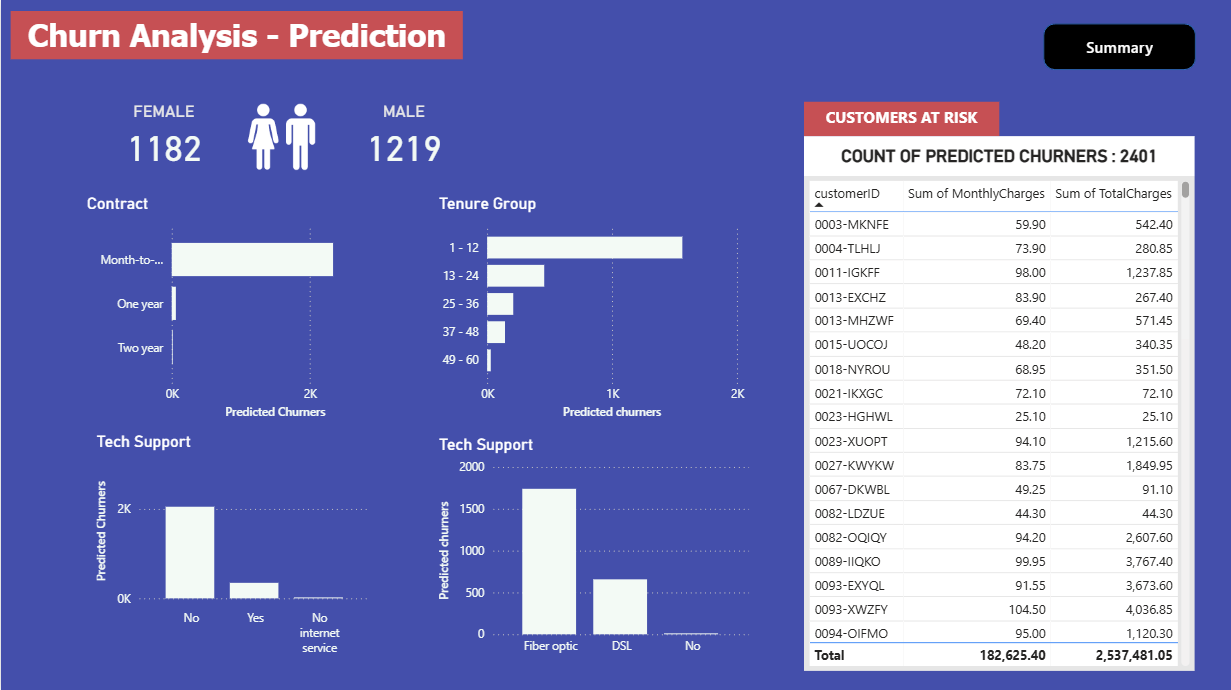

Layout of this report page (visuals, bound fields, positions):
{"tool":"powerbi","page":{"name":"Churn Predict","canvas":[1280,720],"ordinal":1},"visuals":[{"type":"card","fields":{"Values":["Predictions.Total Churners"]},"box":[834.3,141.4,405.7,41.4],"z":0},{"type":"tableEx","fields":{"Values":["Predictions.customerID","Sum(Predictions.MonthlyCharges)","Sum(Predictions.TotalCharges)"]},"box":[834.3,182.9,405.7,514.3],"z":1000},{"type":"clusteredBarChart","title":"Contract ","fields":{"Category":["Predictions.Contract"],"Y":["Sum(Predictions.Customer_Status_Predicted)"]},"box":[84.3,201.4,320,238.6],"z":2000},{"type":"clusteredBarChart","title":"Tenure Group","fields":{"Category":["Predictions.tenure_group"],"Y":["Sum(Predictions.Customer_Status_Predicted)"]},"box":[450,201.2,332.5,238.8],"z":3000},{"type":"clusteredColumnChart","title":"Tech Support","fields":{"Y":["Sum(Predictions.Customer_Status_Predicted)"],"Category":["Predictions.OnlineSecurity"]},"box":[93.8,448.8,295,240],"z":4000},{"type":"clusteredColumnChart","title":"Tech Support","fields":{"Y":["Sum(Predictions.Customer_Status_Predicted)"],"Category":["Predictions.InternetService"]},"box":[450,451.2,332.5,237.5],"z":5000},{"type":"card","title":"MALE","fields":{"Values":["Predictions.Male_sum"]},"box":[334.3,105.7,168.6,71.4],"z":6000},{"type":"card","title":"FEMALE","fields":{"Values":["Predictions.Female_sum"]},"box":[84.3,105.7,170,71.4],"z":7000},{"type":"textbox","box":[10,11.4,470,50],"z":8000},{"type":"textbox","box":[834.3,105.7,202.9,35.7],"z":9000},{"type":"image","box":[211.4,92.9,160,97.1],"z":10000},{"type":"shape","box":[1082.9,24.3,158.6,48.6],"z":10001}]}

Visuals, with their boxes in screenshot pixels (x1, y1, x2, y2), scaled from the page's 1280x720 canvas onto the 1231x690 screenshot:
card - Predictions.Total Churners: pyautogui.locateOnScreen(802, 136, 1193, 175)
tableEx - Predictions.customerID x Sum(Predictions.MonthlyCharges): pyautogui.locateOnScreen(802, 175, 1193, 668)
"Contract " clusteredBarChart: pyautogui.locateOnScreen(81, 193, 389, 422)
"Tenure Group" clusteredBarChart: pyautogui.locateOnScreen(433, 193, 753, 422)
"Tech Support" clusteredColumnChart: pyautogui.locateOnScreen(90, 430, 374, 660)
"Tech Support" clusteredColumnChart: pyautogui.locateOnScreen(433, 432, 753, 660)
"MALE" card: pyautogui.locateOnScreen(322, 101, 484, 170)
"FEMALE" card: pyautogui.locateOnScreen(81, 101, 245, 170)
textbox: pyautogui.locateOnScreen(10, 11, 462, 59)
textbox: pyautogui.locateOnScreen(802, 101, 997, 136)
image: pyautogui.locateOnScreen(203, 89, 357, 182)
shape: pyautogui.locateOnScreen(1041, 23, 1194, 70)
